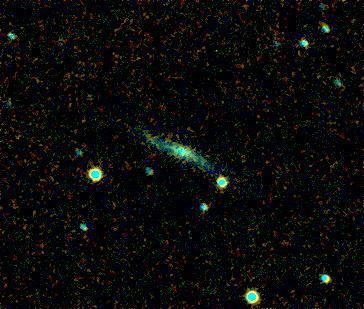star: (74, 82, 104, 112)
